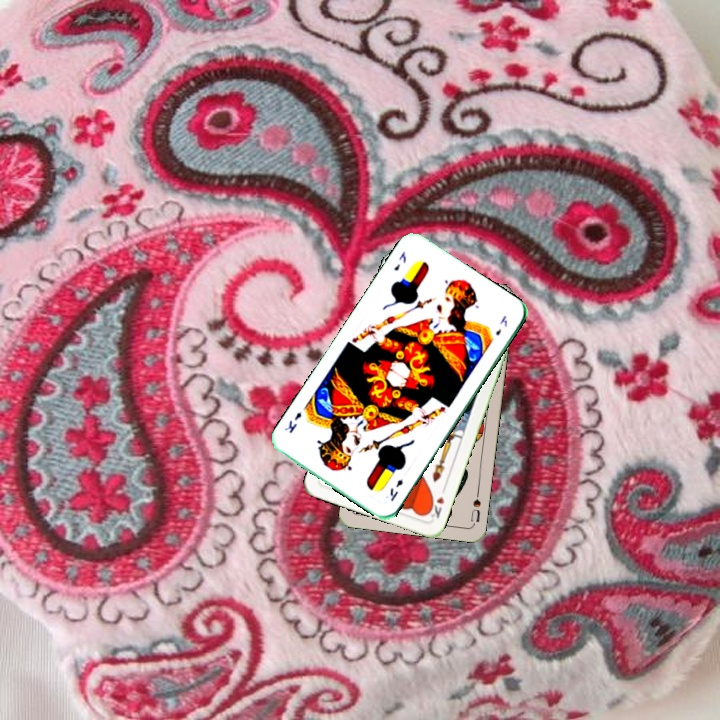EK: (386, 475, 406, 504), (390, 247, 409, 273)
HK: (423, 493, 447, 521)
SU: (467, 486, 483, 526)
